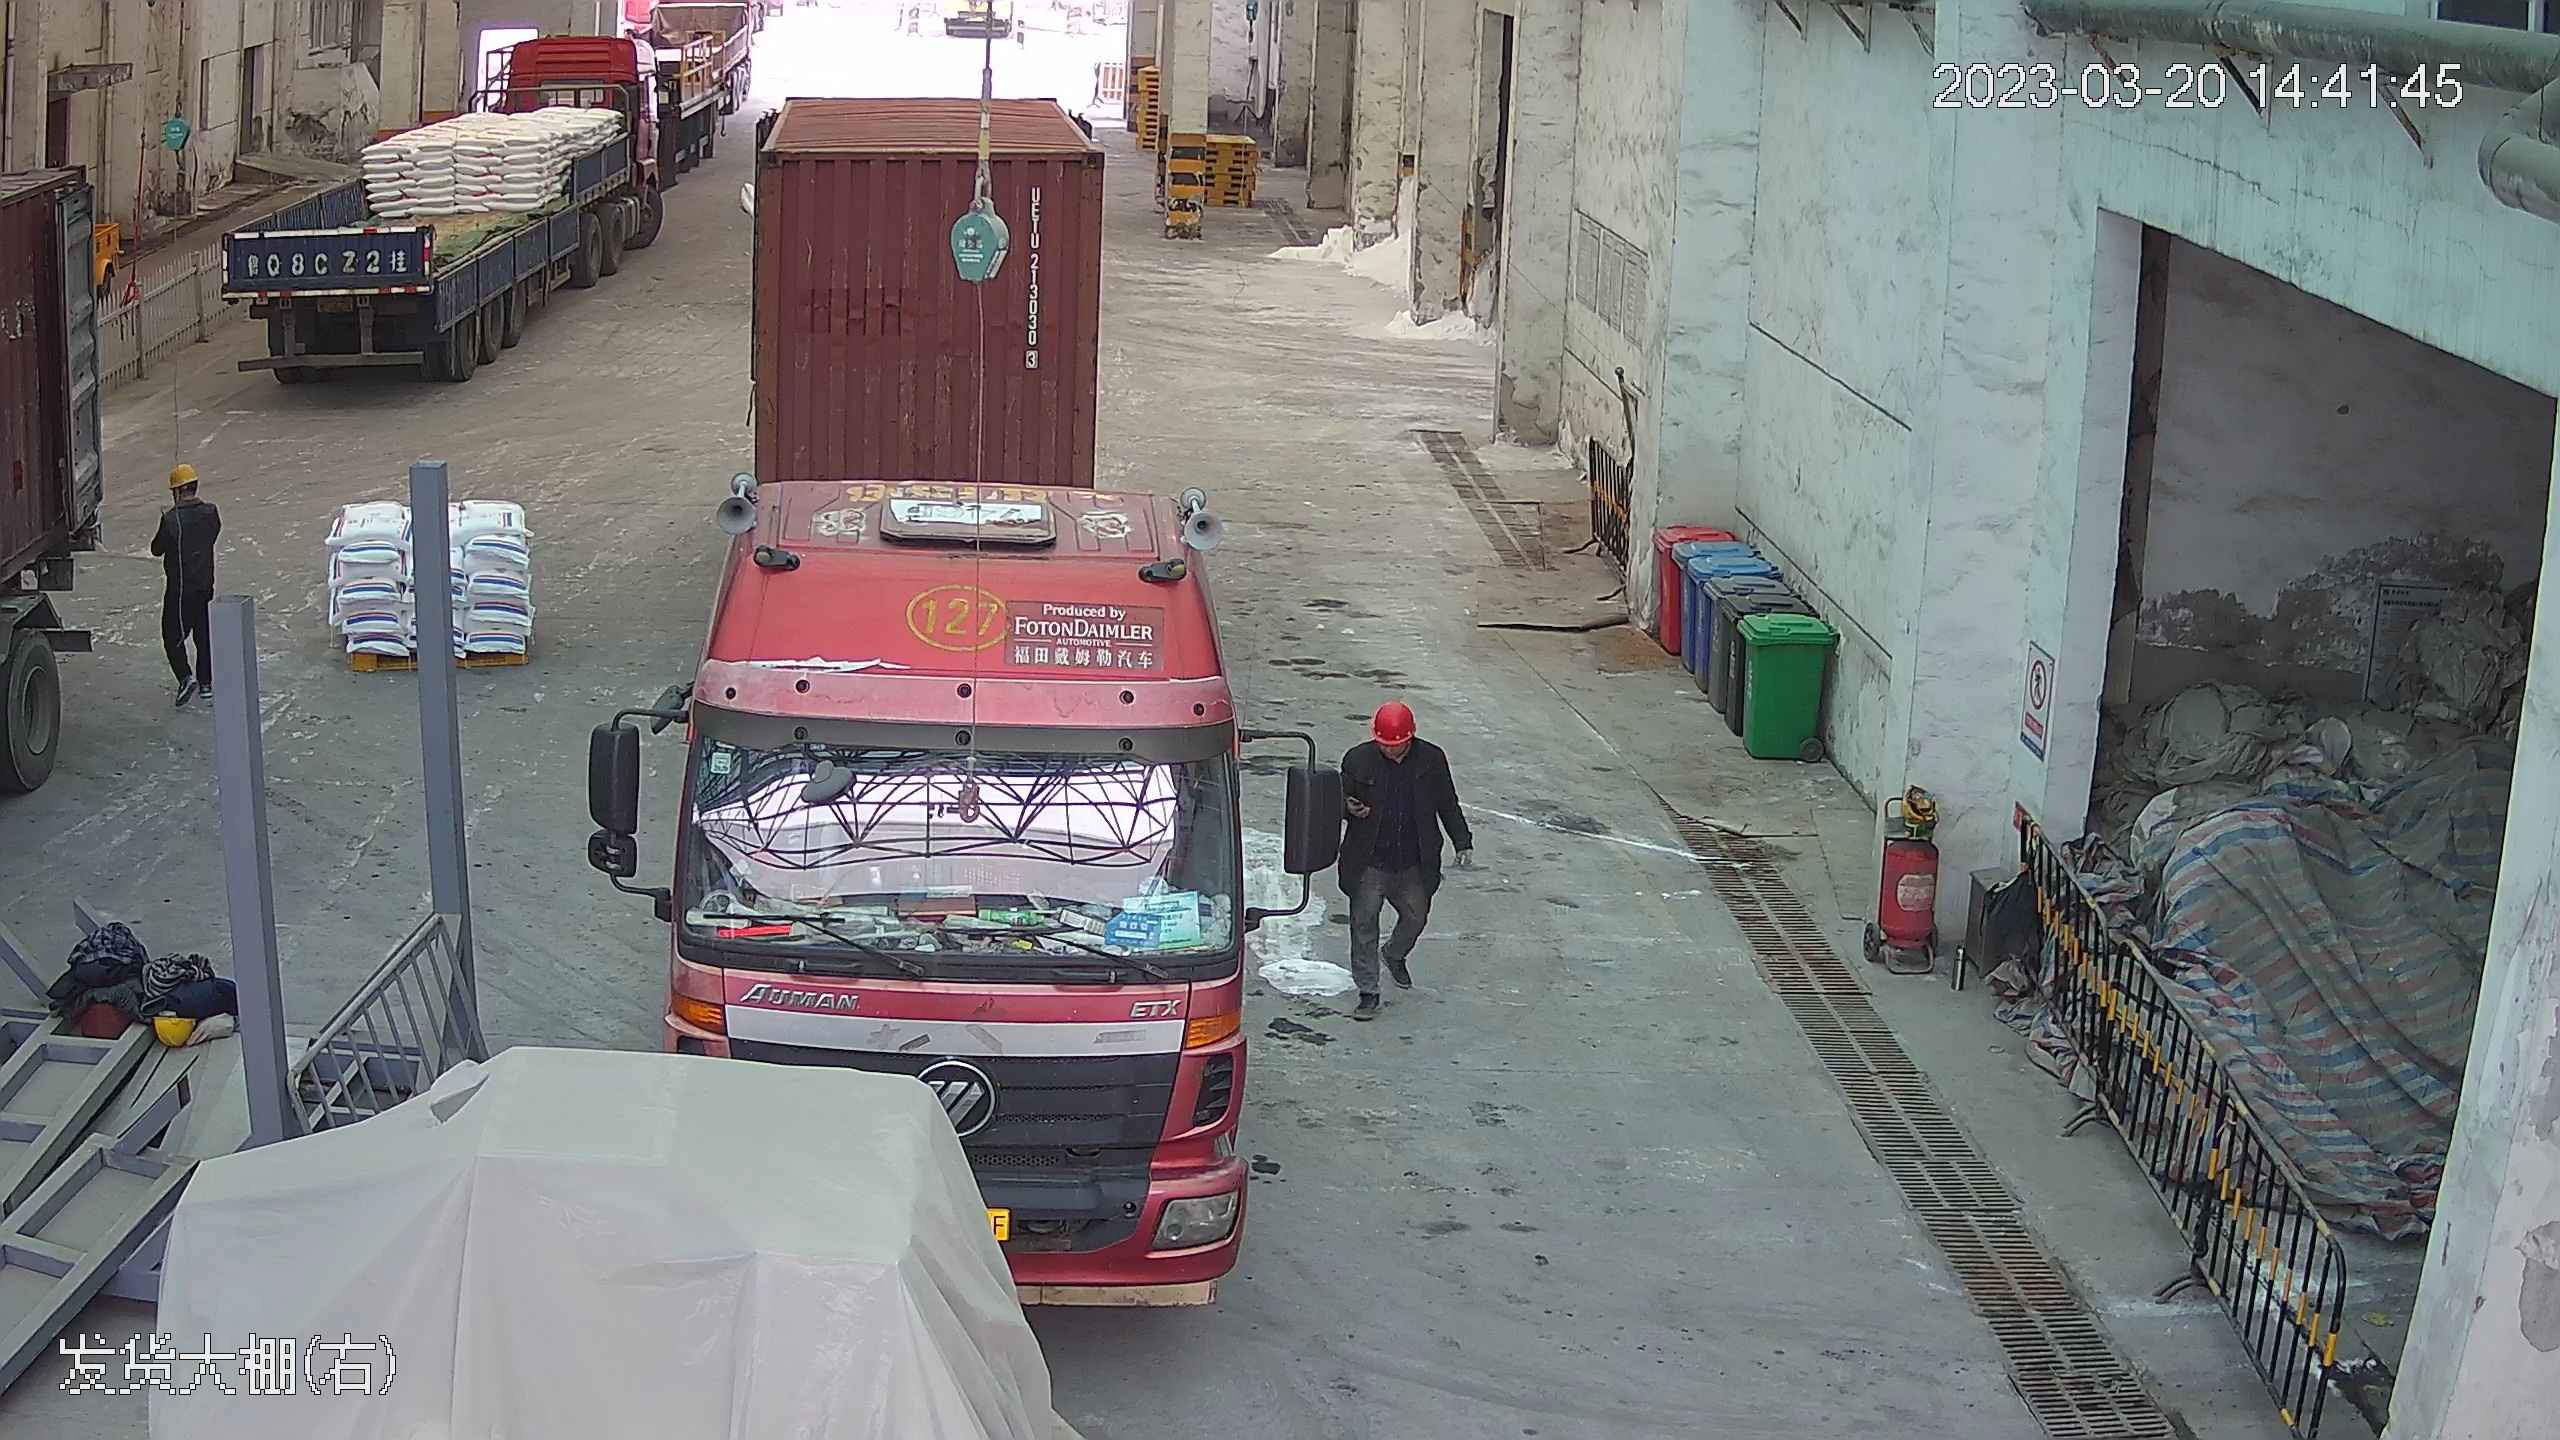head: (1342, 696, 1445, 792), (155, 461, 218, 533)
helmet: (1369, 698, 1420, 740), (165, 461, 197, 485)
people: (1328, 696, 1471, 1016), (146, 458, 223, 701)
truck: (646, 30, 1261, 1286), (198, 4, 694, 396)
